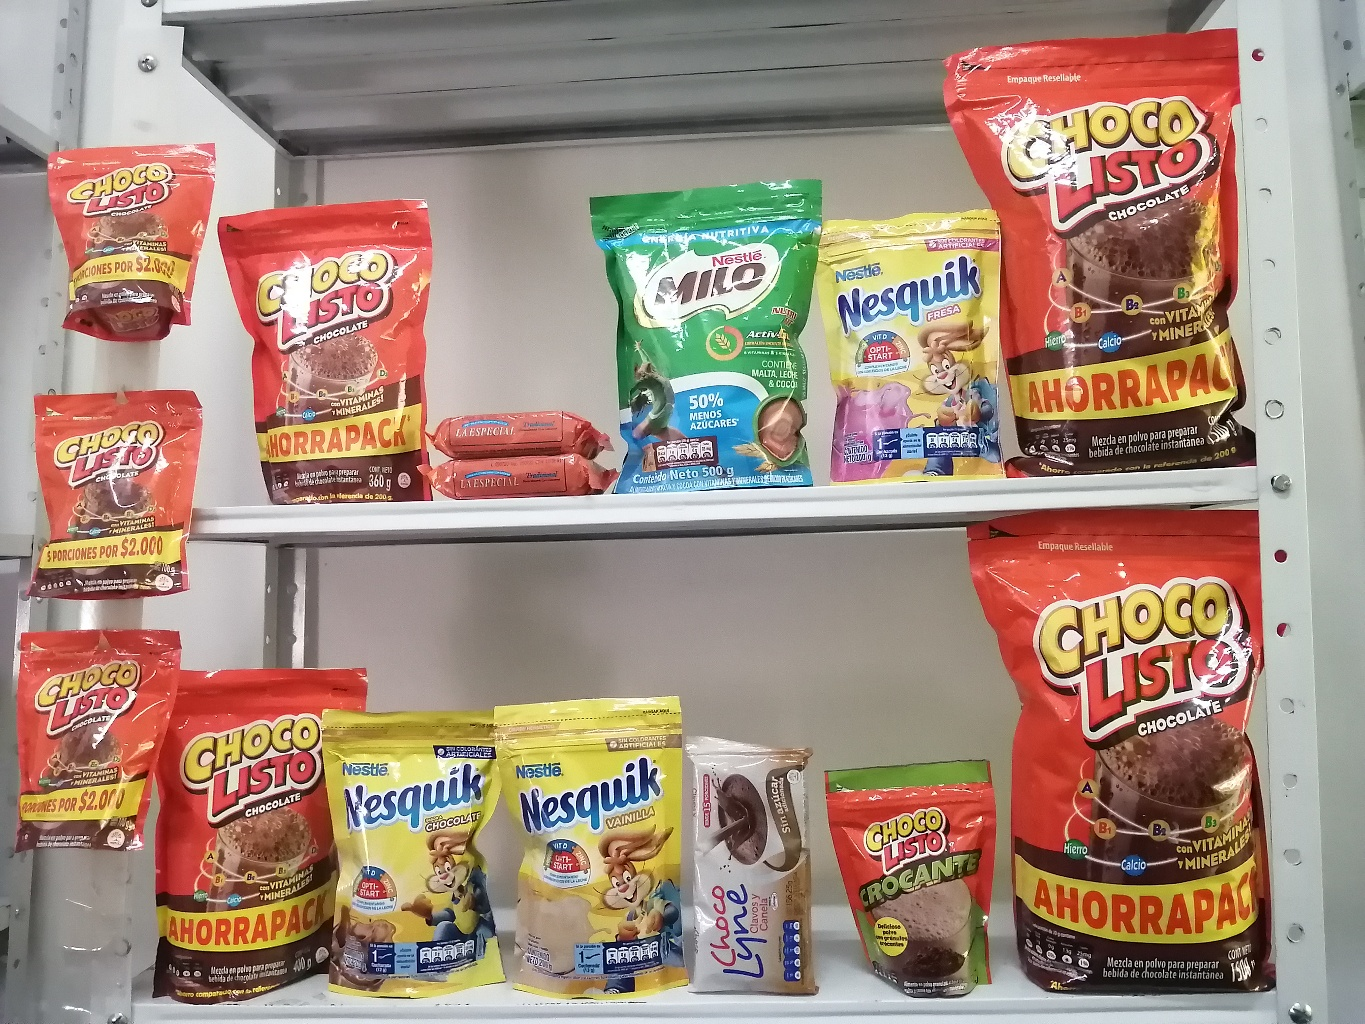COL0170102DYP10000: (804, 746, 997, 1002)
COL0170103DYP1,500: (970, 520, 1266, 999)
COL0170103DYP10000: (46, 141, 208, 330)
COL0170103DYP36000: (217, 194, 430, 499)
COL0170103DYP40000: (154, 662, 372, 1009)
COL0170205DYP50000: (595, 179, 830, 487)
COL0170303DYP20000: (326, 703, 517, 1002)
COL0170305DYP20000: (815, 211, 995, 479)
COL0170306DYP20000: (481, 689, 688, 990)
